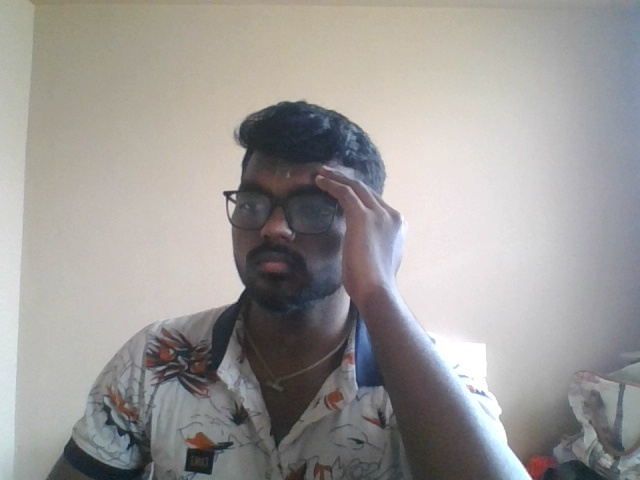Hello: (287, 157, 429, 323)
